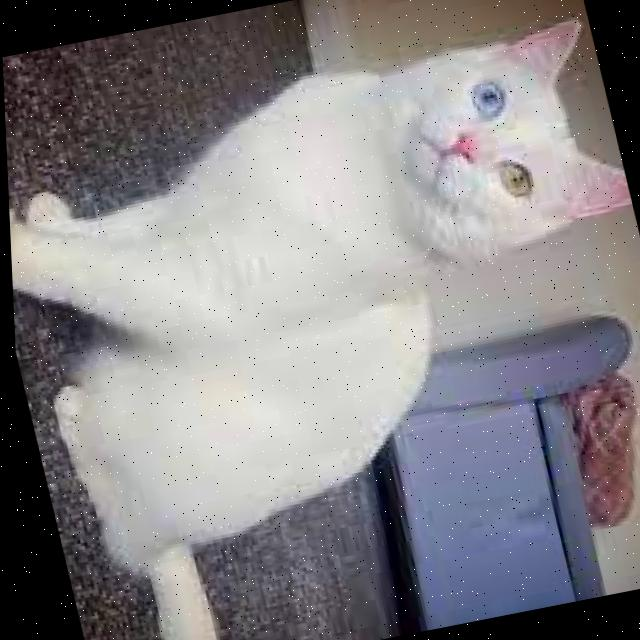Khao Manee: (0, 4, 640, 640)
